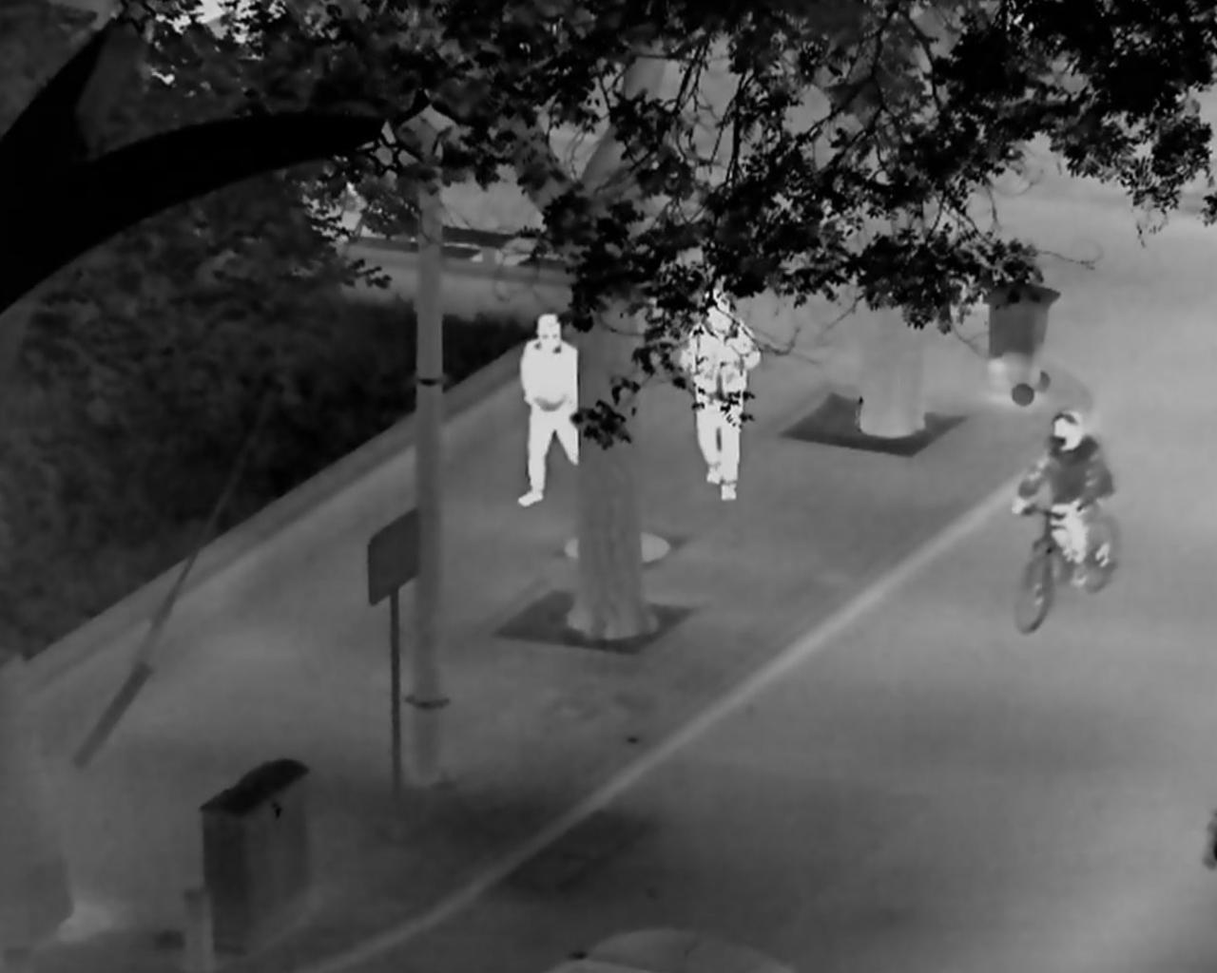person: (677, 285, 761, 500), (1011, 409, 1112, 582), (515, 314, 583, 506)
